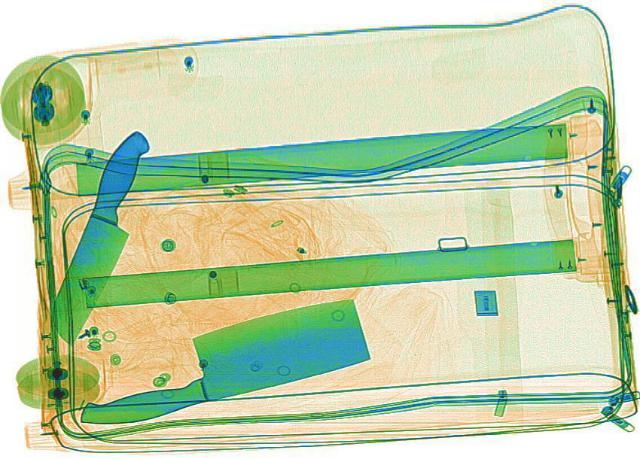Knife: (40, 286, 390, 438), (39, 122, 154, 349)
